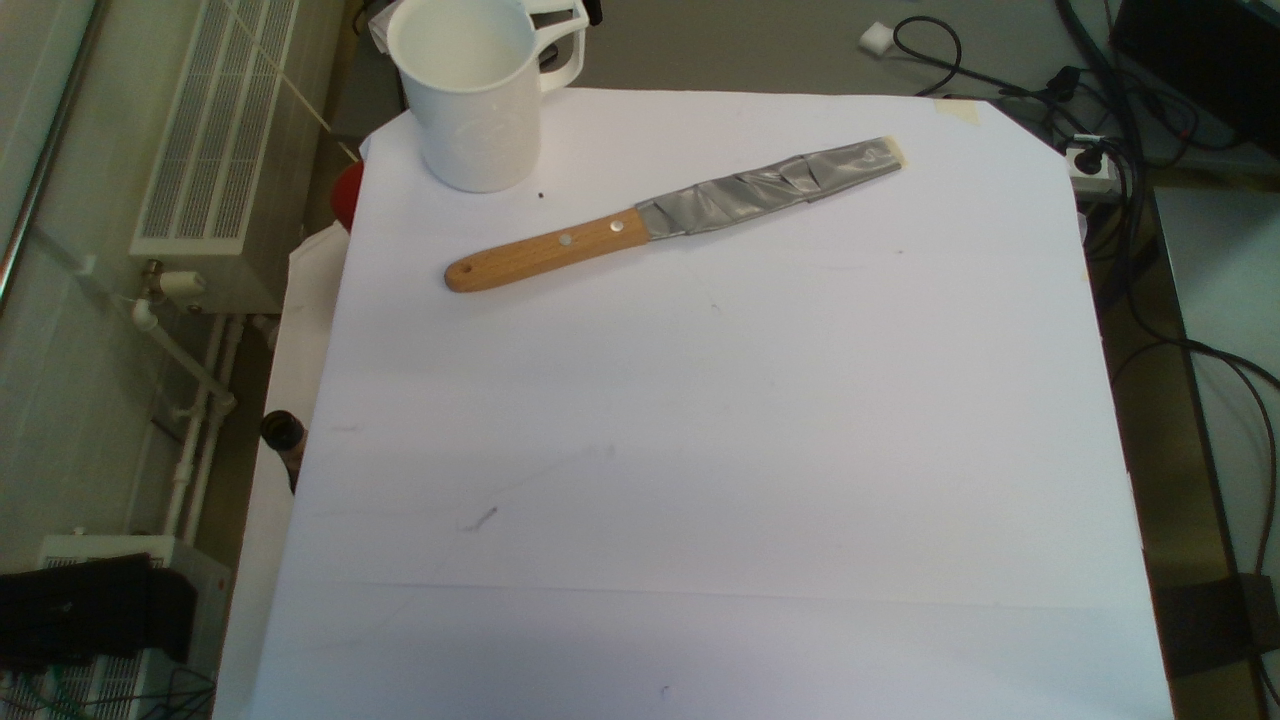cup: (387, 1, 592, 192)
knife: (442, 133, 912, 296)
